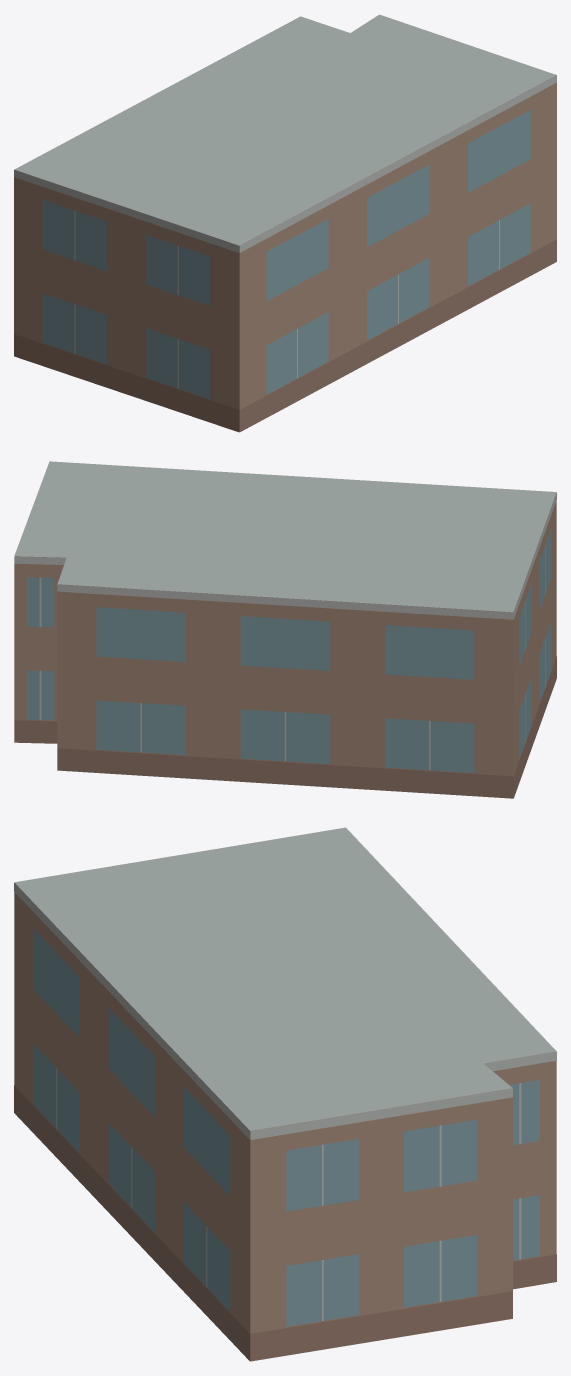
The model's file is survey-upis-32884845.glb.
3 renders of one model, top to bottom at view 1: azimuth 30°, elevation 25°; view 2: azimuth 150°, elevation 25°; view 3: azimuth 270°, elevation 25°, orthographic. The views are drawn at different scales.
Parts seen in each view (by area): view 1: survey-upis-32884845.tmp; view 2: survey-upis-32884845.tmp; view 3: survey-upis-32884845.tmp.
Boxes of the visible parts, bbox=[...] form: survey-upis-32884845.tmp: bbox=[14, 14, 556, 432]; survey-upis-32884845.tmp: bbox=[14, 461, 556, 798]; survey-upis-32884845.tmp: bbox=[14, 827, 556, 1361].
Size of the model in its own units: 17.24 by 6.1 by 13.03.
